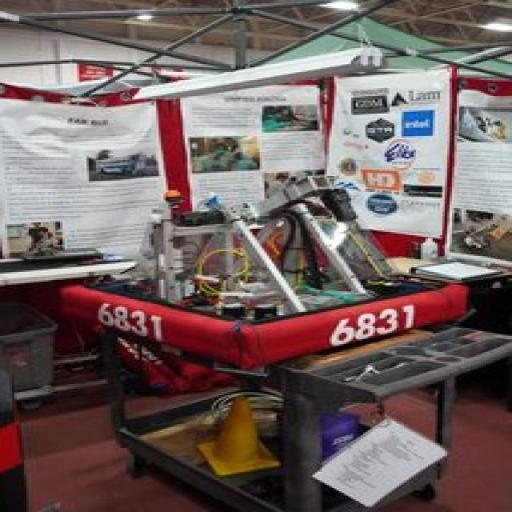robot: (47, 158, 481, 379)
